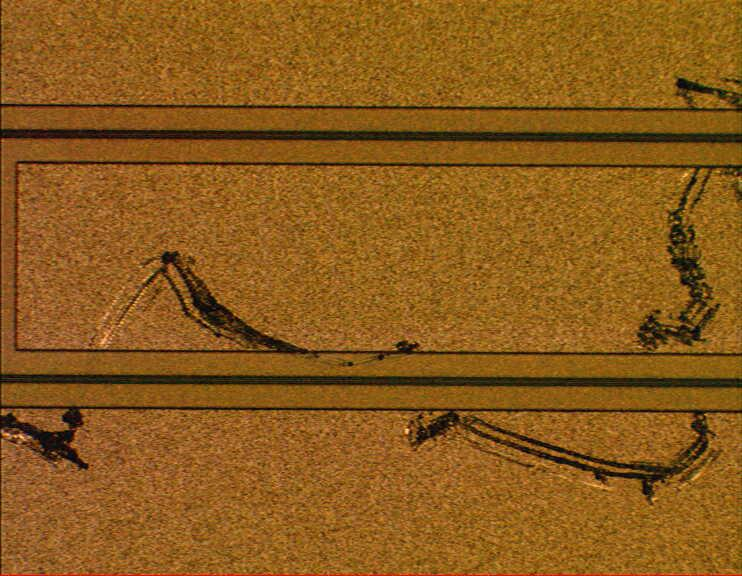SCRATCH: (1, 63, 742, 507)
